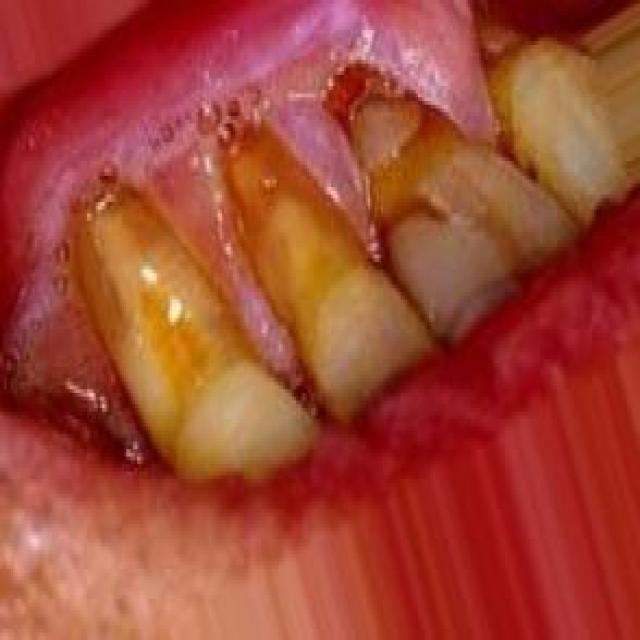caries: (339, 49, 467, 234)
